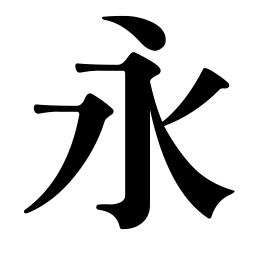D: (99, 14, 168, 47)
HSZ: (113, 51, 163, 90)
Hs: (73, 59, 101, 76)
Ne: (187, 173, 237, 220)
PNc: (152, 110, 178, 134)
PZe: (22, 190, 59, 217)
Ps: (193, 65, 231, 101)
SG: (94, 185, 153, 233)
Sm: (122, 135, 153, 173)
TPZ: (72, 92, 117, 127)
Ts: (32, 102, 58, 116)
